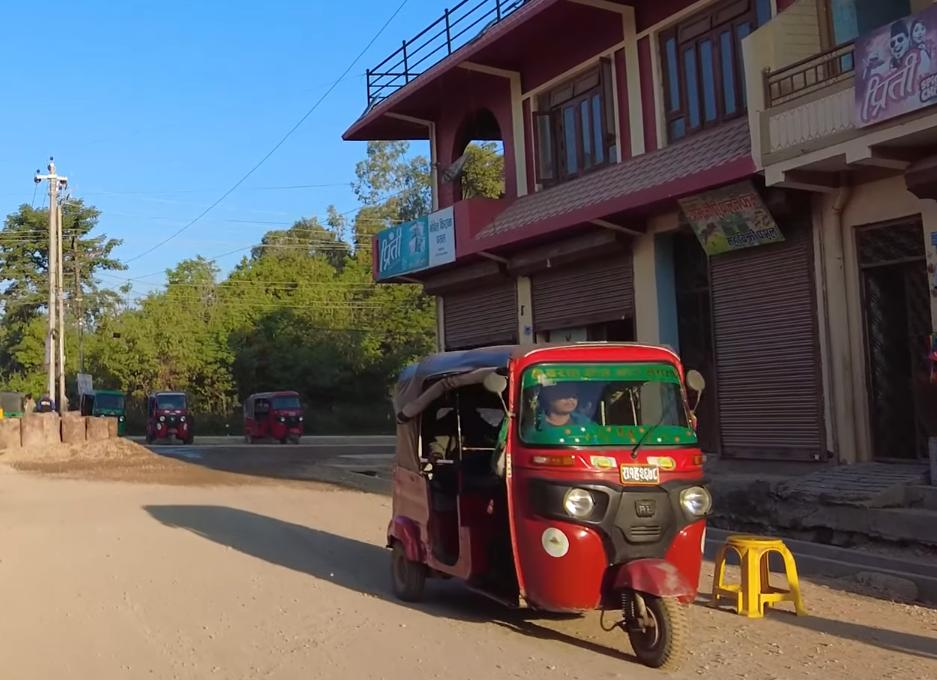auto_rickshaw: (375, 332, 715, 675), (238, 379, 309, 455), (142, 382, 202, 446), (78, 383, 129, 445)
